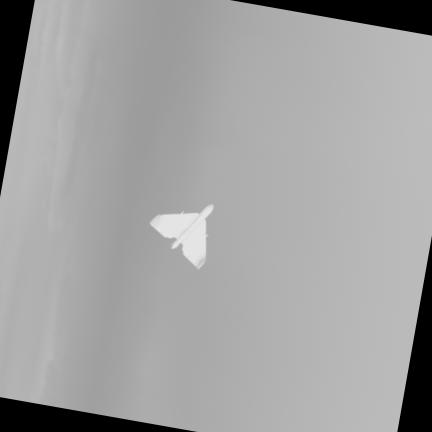Shahed: (149, 204, 214, 270)
